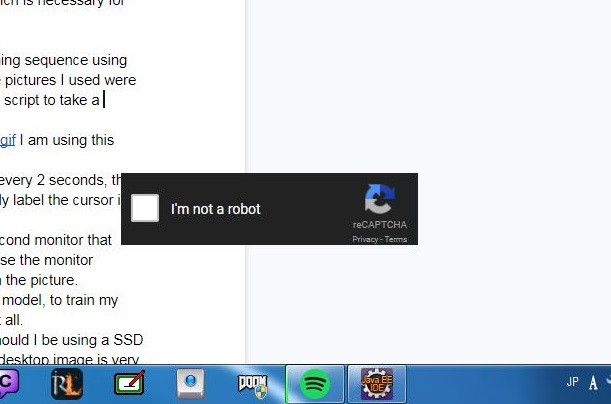captcha: (130, 193, 264, 222)
